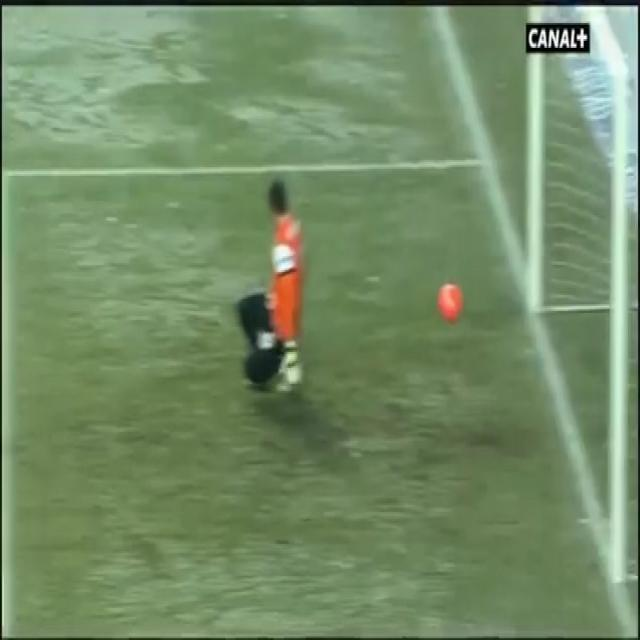ball: (425, 260, 477, 344)
goalkeeper: (226, 146, 340, 446)
